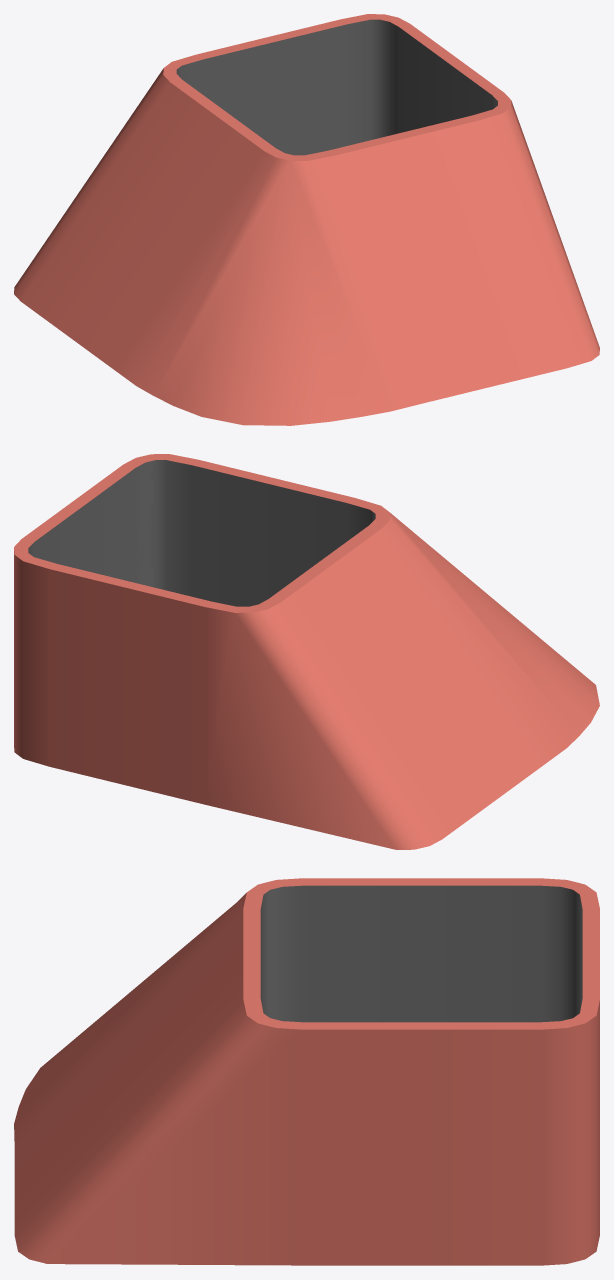
Rendered from machine_cranebasket.FBX.
The picture shows the model from 3 angles, top to bottom: view 1: azimuth 30°, elevation 25°; view 2: azimuth 150°, elevation 25°; view 3: azimuth 270°, elevation 25°; orthographic projection. The views are drawn at different scales.
Visible parts, largest first — view 1: machine_cranebasket; view 2: machine_cranebasket; view 3: machine_cranebasket.
Part boxes in pixels (<box>): machine_cranebasket: <box>14,14,599,425</box>; machine_cranebasket: <box>14,454,599,849</box>; machine_cranebasket: <box>14,878,599,1265</box>.
Bounding box in the file's own units: 296 × 133 × 299.
